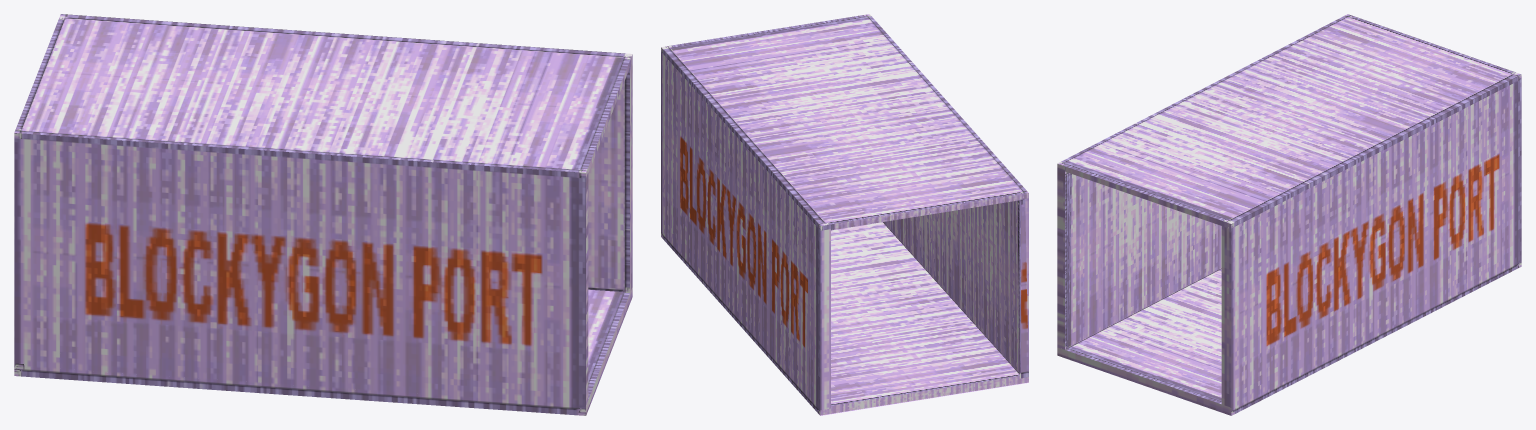
File: BLOCKYGON_WHITE CONTAINERS(OPEN).fbx
3 renders of one model, left to right at view 1: azimuth 30°, elevation 25°; view 2: azimuth 150°, elevation 25°; view 3: azimuth 270°, elevation 25°, orthographic. The views are drawn at different scales.
Parts seen in each view (by area): view 1: BLOCKYGON_WHITE_CONTAINERS_OPEN_; view 2: BLOCKYGON_WHITE_CONTAINERS_OPEN_; view 3: BLOCKYGON_WHITE_CONTAINERS_OPEN_.
Boxes of the visible parts, x1=… form: BLOCKYGON_WHITE_CONTAINERS_OPEN_: x1=14, y1=14, x2=632, y2=415; BLOCKYGON_WHITE_CONTAINERS_OPEN_: x1=661, y1=14, x2=1028, y2=415; BLOCKYGON_WHITE_CONTAINERS_OPEN_: x1=1057, y1=14, x2=1521, y2=415.
Bounding box in the file's own units: 479 × 204 × 448.
